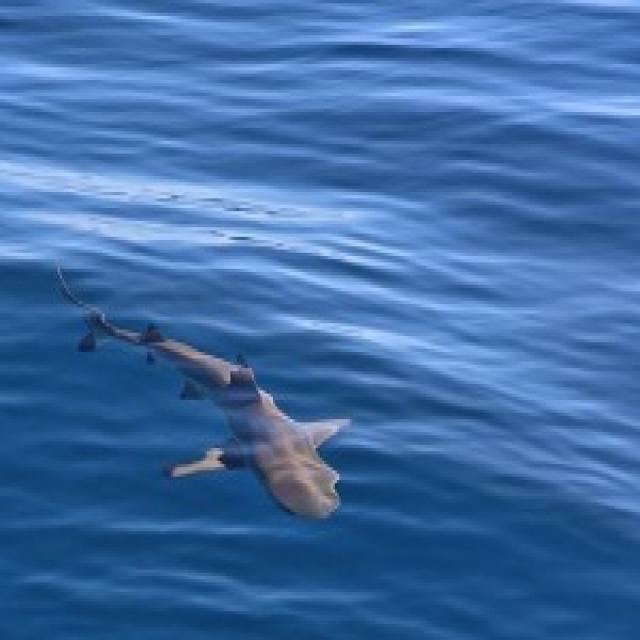Shark: (43, 243, 364, 541)
